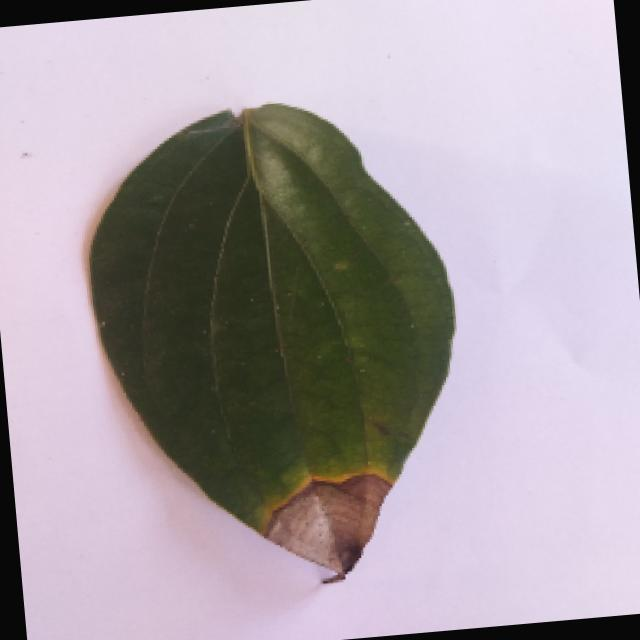footrot: (67, 88, 487, 600)
